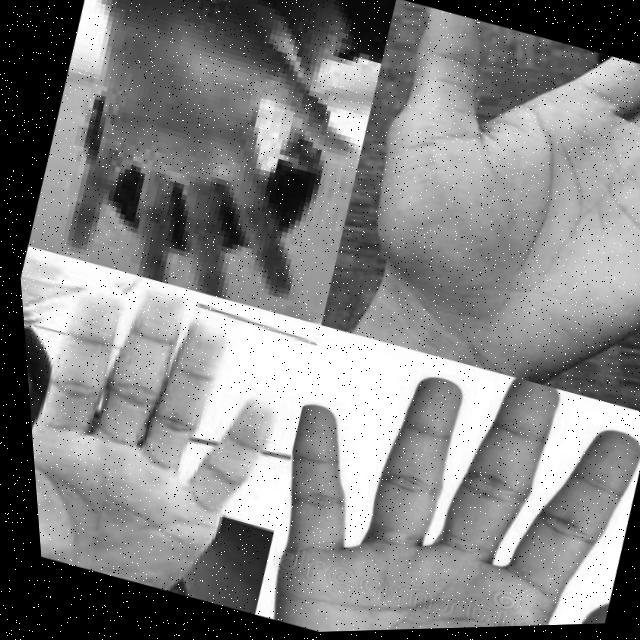hand: (226, 318, 640, 635), (321, 0, 640, 396), (29, 0, 397, 331), (14, 239, 313, 614)
